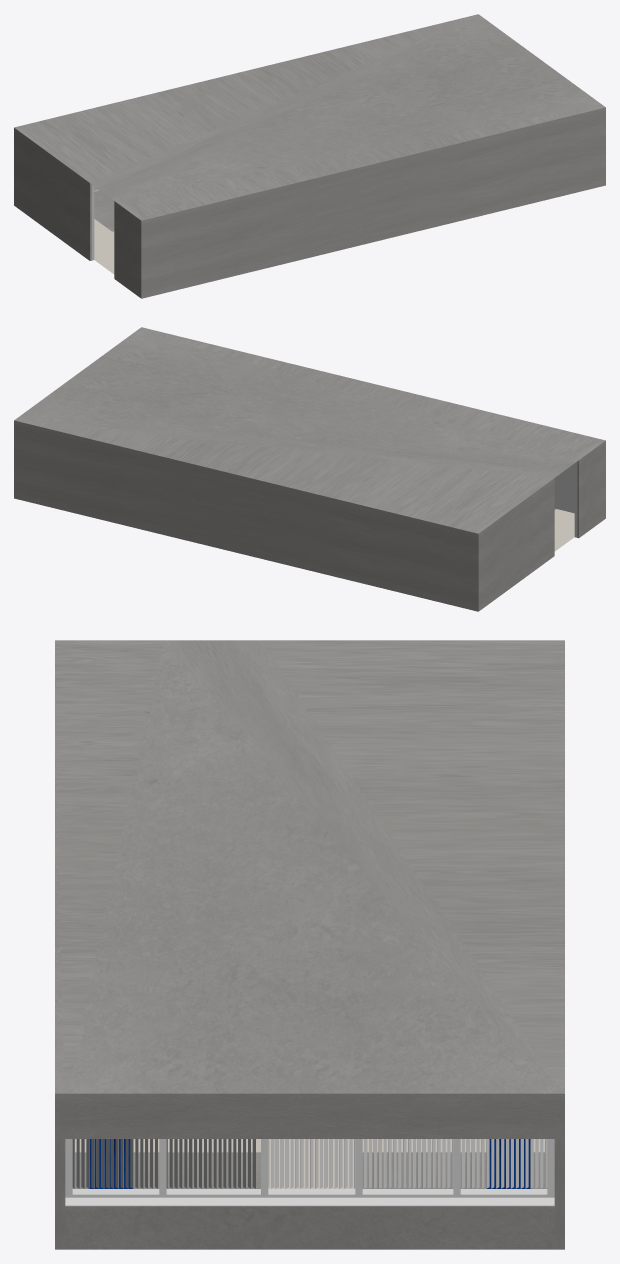
File: Walls.fbx
The picture shows the model from 3 angles, top to bottom: view 1: azimuth 30°, elevation 25°; view 2: azimuth 150°, elevation 25°; view 3: azimuth 270°, elevation 25°; orthographic projection. The views are drawn at different scales.
Visible parts, largest first — view 1: LightObstruct, Walls; view 2: LightObstruct, Walls; view 3: LightObstruct, Walls, Curtains.
Part boxes in pixels (box(x1,y1,x2,y2)): LightObstruct: box(14, 14, 605, 298); Walls: box(91, 185, 114, 274); LightObstruct: box(14, 327, 605, 611); Walls: box(554, 462, 577, 551); LightObstruct: box(55, 640, 564, 1249); Walls: box(65, 1139, 554, 1206); Curtains: box(88, 1139, 531, 1188).
Size of the model in its own units: 21.96 by 3.52 by 10.41.
